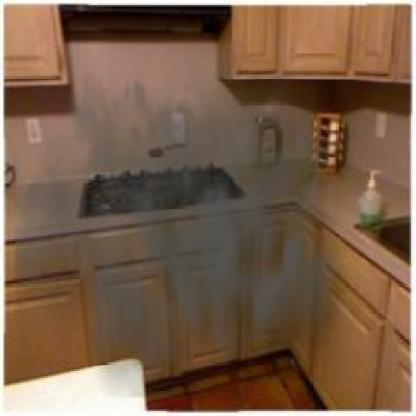Smoke: (15, 37, 363, 398)
